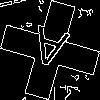A: (25, 25, 71, 78)
